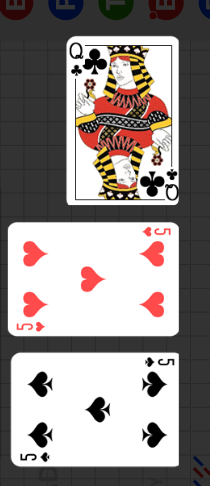5H: (141, 226, 172, 238)
5S: (19, 451, 53, 463)
9C: (68, 40, 85, 78)
